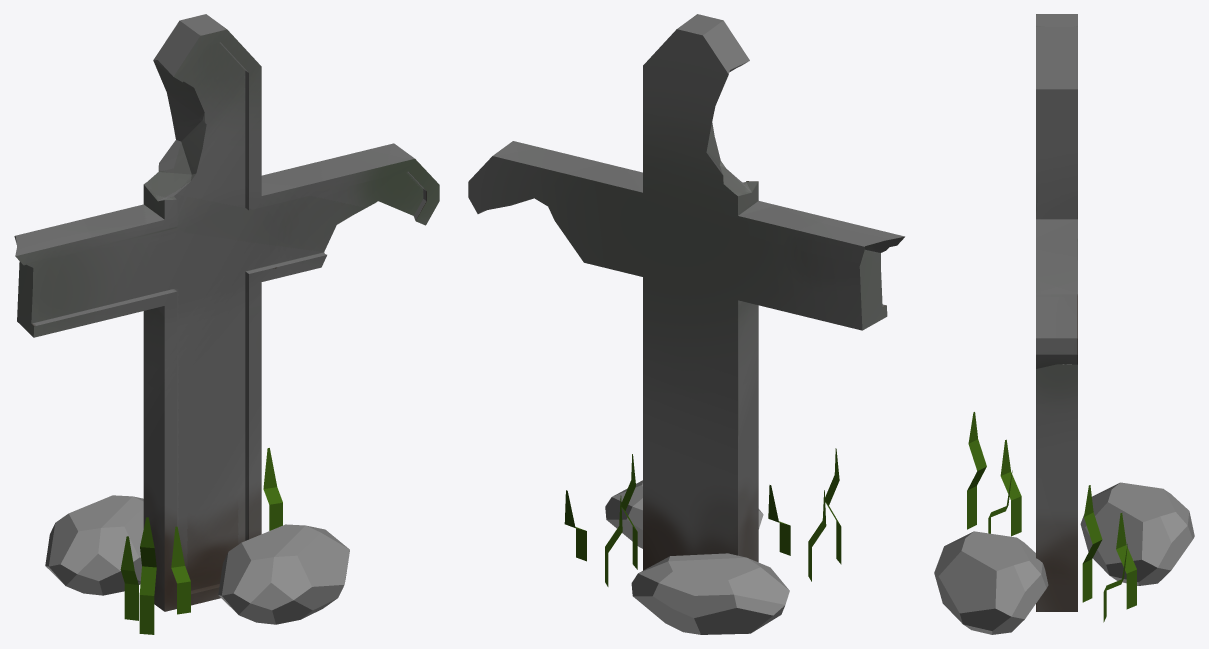
Rendered from tomb_1.fbx.
3 views of the same model, side by side, from view 1: azimuth 30°, elevation 25°; view 2: azimuth 150°, elevation 25°; view 3: azimuth 270°, elevation 25° (orthographic). The views are drawn at different scales.
Parts seen in each view (by area): view 1: Cube.009, Cube.003, Cube.002, Cube.007, Cube.006, Cube.010, Cube.004; view 2: Cube.009, Cube.002, Cube.003, Cube.010; view 3: Cube.009, Cube.003, Cube.002, Cube.011, Cube.007, Cube.006, Cube.012.
Boxes of the visible parts, left/top/right/bottom form: Cube.009: left=14, top=14, right=439, bottom=611; Cube.003: left=218, top=524, right=349, bottom=624; Cube.002: left=45, top=495, right=143, bottom=595; Cube.007: left=139, top=517, right=156, bottom=634; Cube.006: left=120, top=536, right=138, bottom=620; Cube.010: left=171, top=526, right=190, bottom=614; Cube.004: left=263, top=448, right=282, bottom=530; Cube.009: left=468, top=14, right=904, bottom=570; Cube.002: left=631, top=553, right=789, bottom=634; Cube.003: left=605, top=480, right=763, bottom=548; Cube.010: left=768, top=485, right=790, bottom=555; Cube.009: left=1036, top=14, right=1077, bottom=611; Cube.003: left=934, top=531, right=1048, bottom=634; Cube.002: left=1080, top=482, right=1194, bottom=585; Cube.011: left=1082, top=485, right=1102, bottom=602; Cube.007: left=967, top=412, right=986, bottom=529; Cube.006: left=1000, top=439, right=1021, bottom=536; Cube.012: left=1116, top=513, right=1136, bottom=609.
Size of the model in its own units: 1.14 by 1.48 by 0.6054.
Materials: 2 (2 with a texture image).
